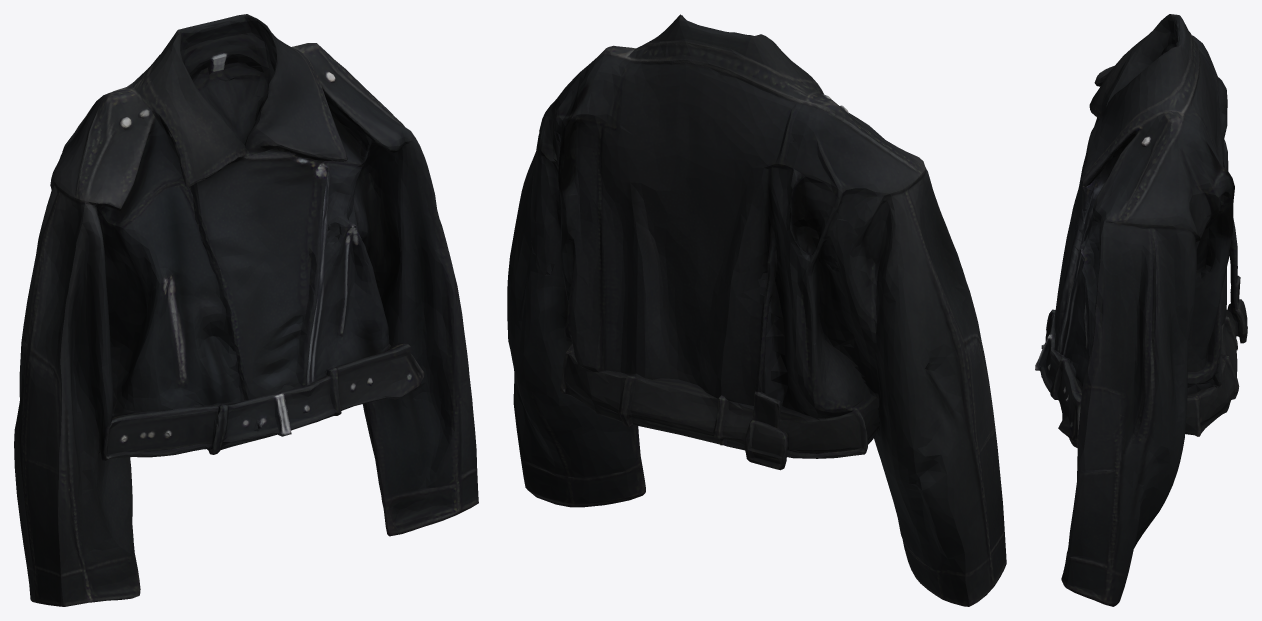
Rendered from Leather-jacket_20250228101346.glb.
3 renders of one model, left to right at view 1: azimuth 30°, elevation 25°; view 2: azimuth 150°, elevation 25°; view 3: azimuth 270°, elevation 25°, orthographic. The views are drawn at different scales.
Parts seen in each view (by area): view 1: world; view 2: world; view 3: world.
Boxes of the visible parts, bbox=[...] form: world: bbox=[14, 14, 478, 606]; world: bbox=[507, 14, 1006, 606]; world: bbox=[1035, 14, 1247, 606].
Size of the model in its own units: 0.8806 by 0.9977 by 0.3977.
1 material, 1 textured.
